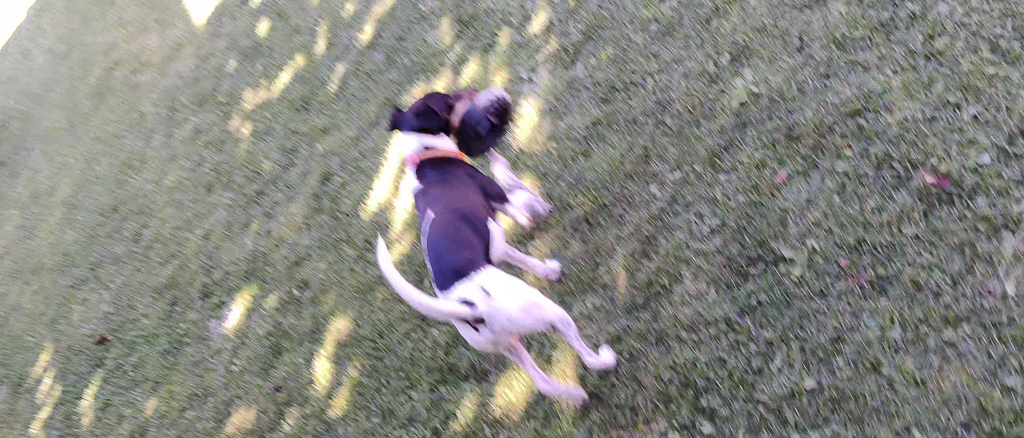Dog: (366, 79, 642, 418)
